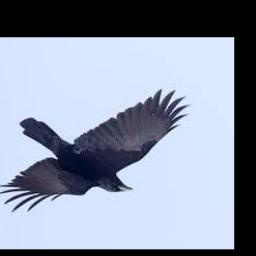Crow: (0, 91, 188, 213)
